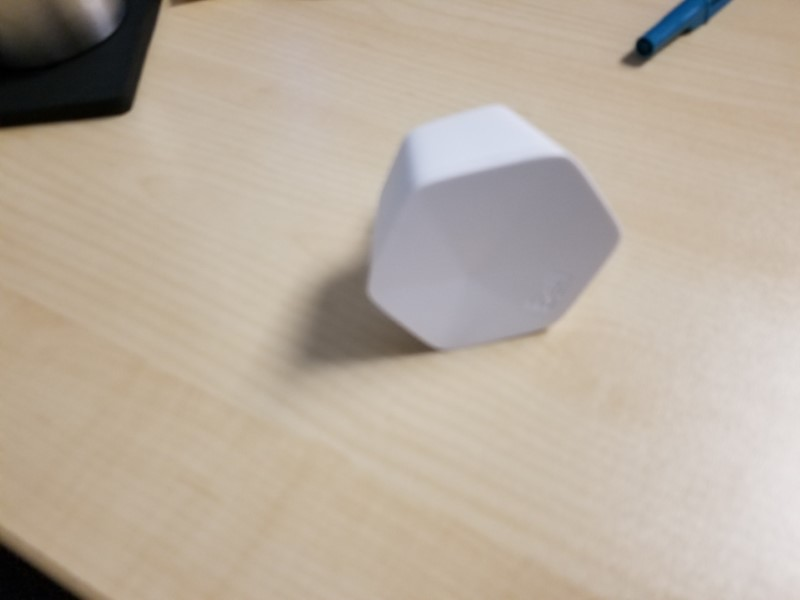pod: (364, 101, 627, 357)
